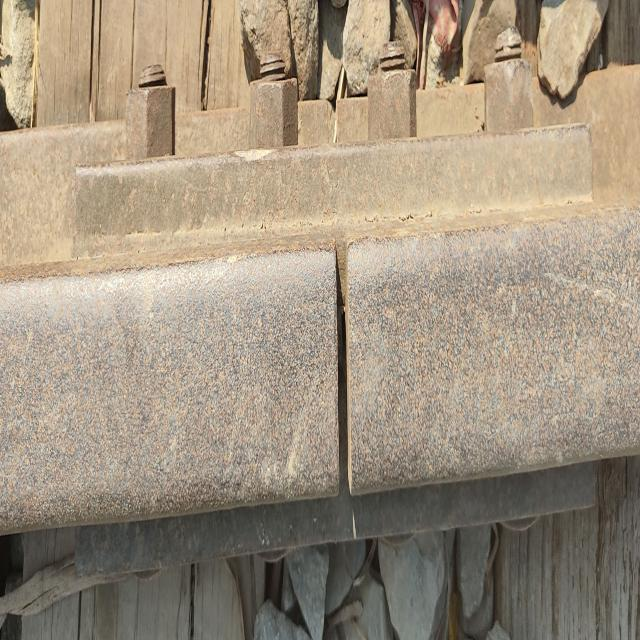Good Joint: (70, 24, 603, 583)
